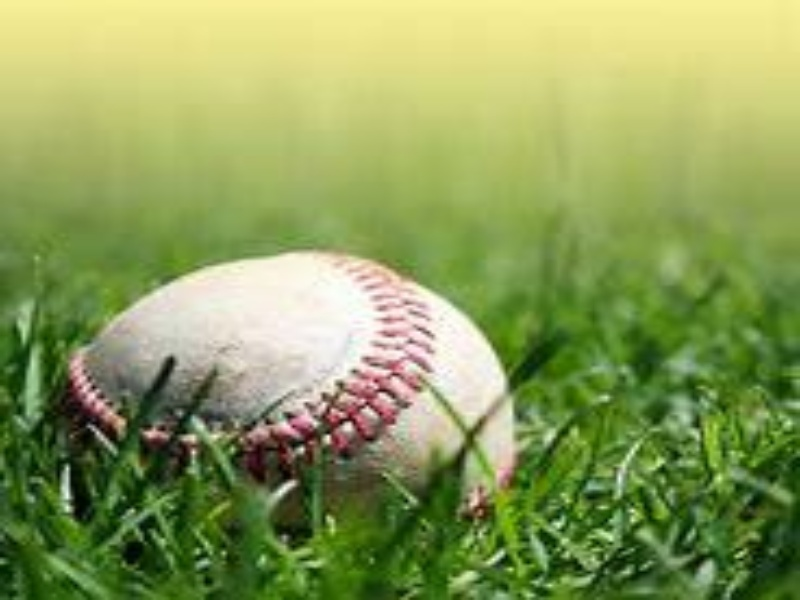baseball: (59, 238, 515, 507)
